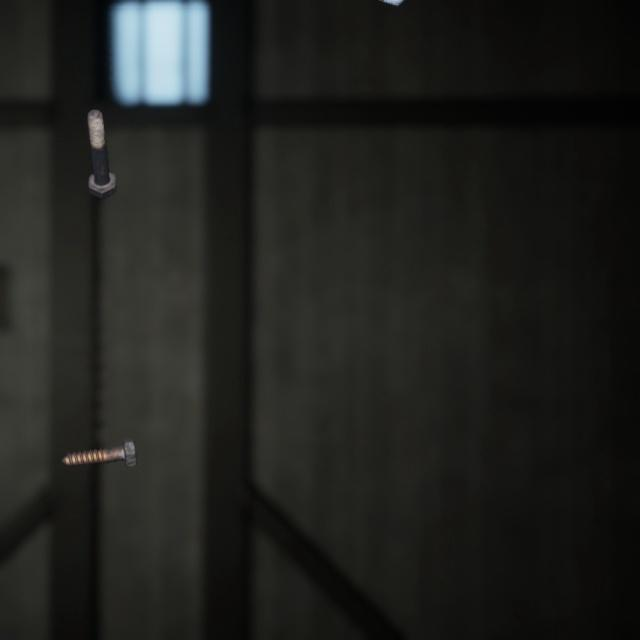bolt: (82, 91, 120, 190), (57, 414, 141, 451)
